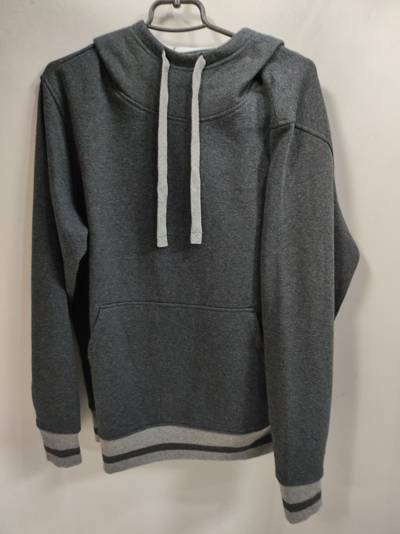Hoodie: (22, 12, 359, 515)
